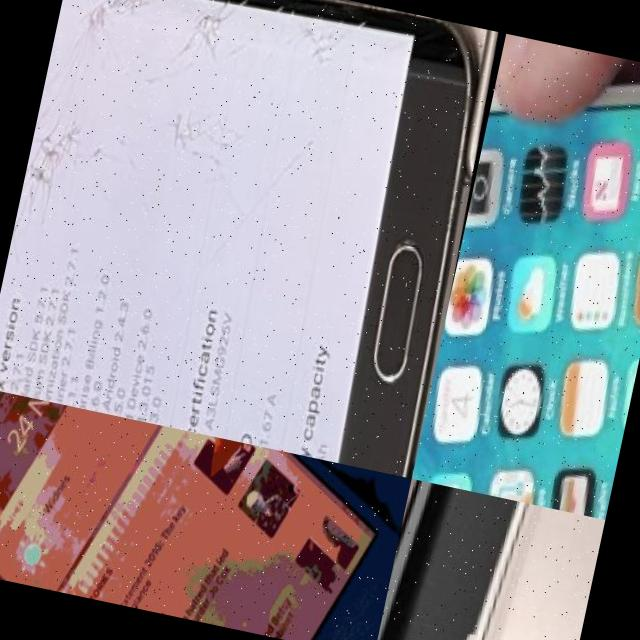screen crack: (140, 0, 372, 206), (11, 0, 158, 255)
